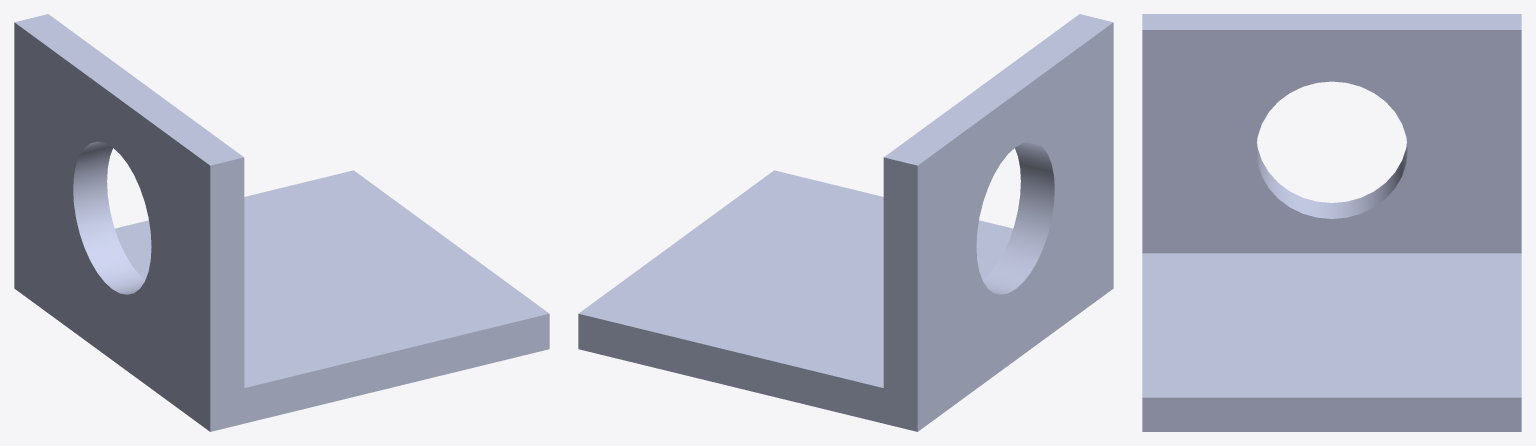
File: Template_Submount_10001.glb
3 renders of one model, left to right at view 1: azimuth 30°, elevation 25°; view 2: azimuth 150°, elevation 25°; view 3: azimuth 270°, elevation 25°, orthographic. The views are drawn at different scales.
Visible parts, largest first — view 1: color; view 2: color; view 3: color.
Boxes of the visible parts, x1=… form: color: x1=14, y1=14, x2=549, y2=431; color: x1=578, y1=14, x2=1113, y2=431; color: x1=1142, y1=14, x2=1521, y2=431.
Size of the model in its own units: 0.01 by 0.0075 by 0.01.
